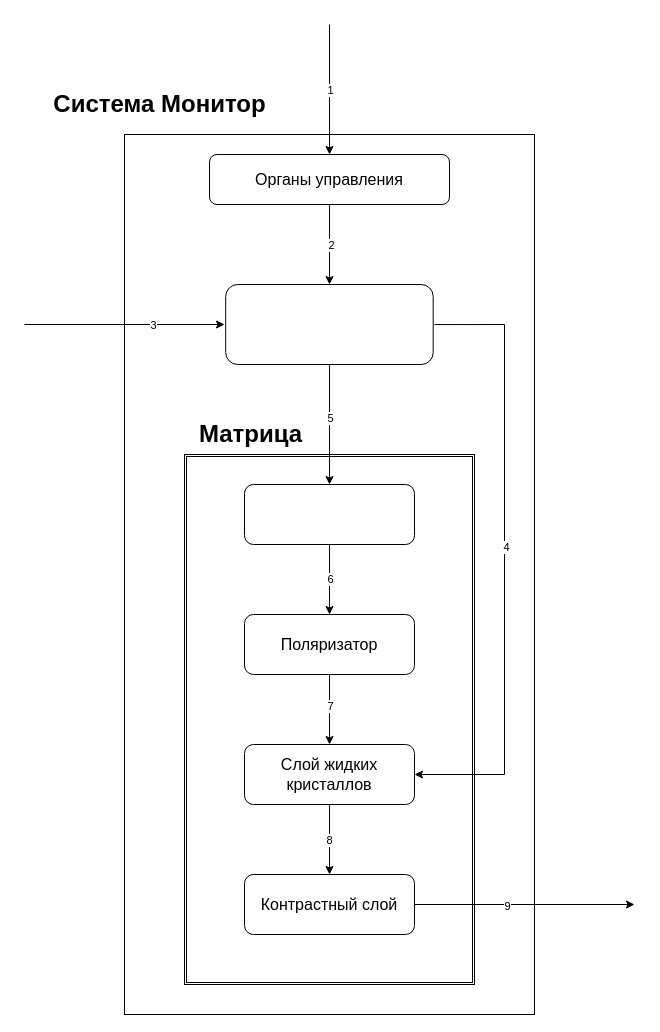
Image size: 660x1032. Some labels were removed from this diagram. Here are the shapes that lost their labels. From the top down, the centre of each, then its label:
At (x=329, y=324): "Модуль управления".
At (x=329, y=514): "Светодиоды".
